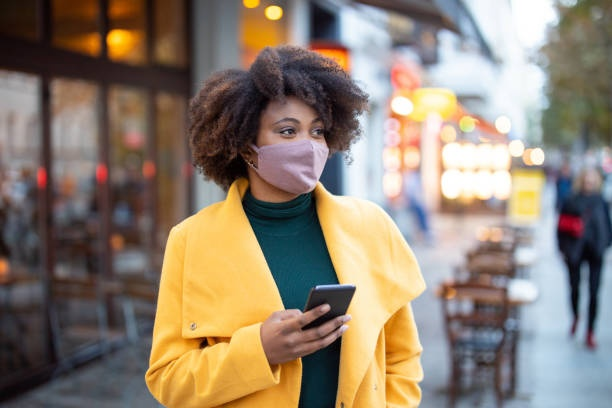mask: (228, 58, 335, 204)
person: (147, 52, 422, 408)
phone: (300, 283, 359, 343)
